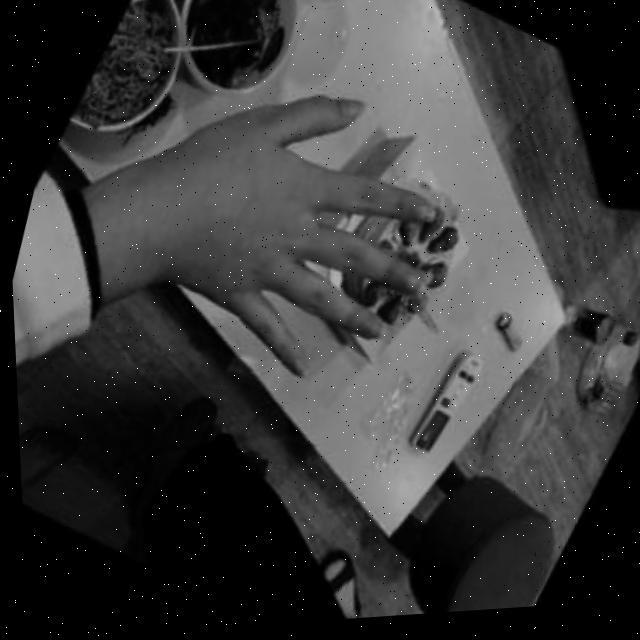no-gloves: (139, 59, 471, 418)
